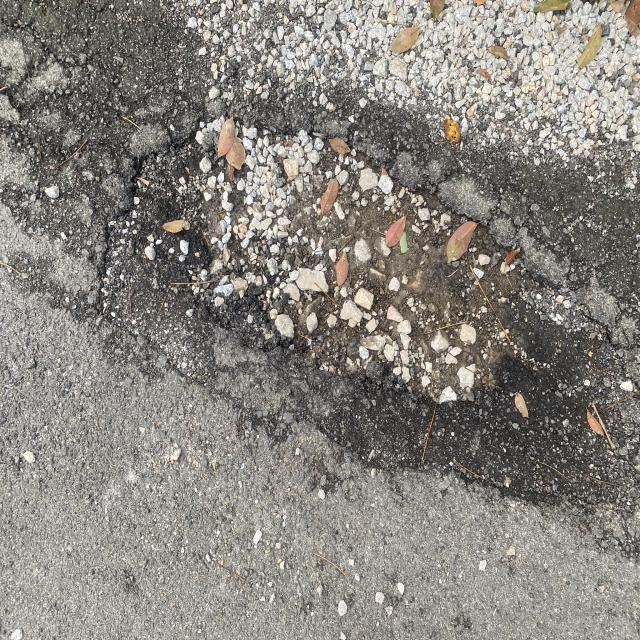pothole: (74, 81, 617, 464)
